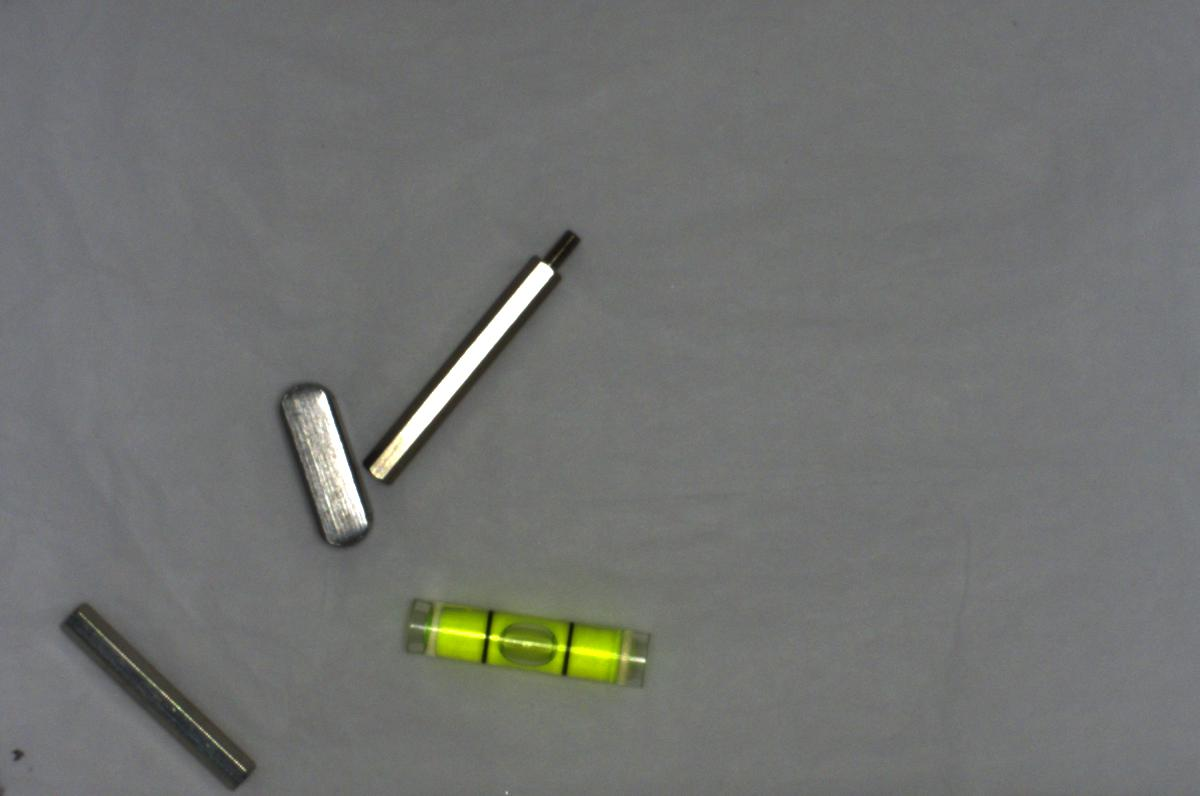Double hexagonal column: (45, 594, 259, 789)
Hexagonal steel column: (367, 222, 588, 494)
Horizontal bubble: (395, 587, 664, 699)
Keybar: (277, 378, 380, 552)
